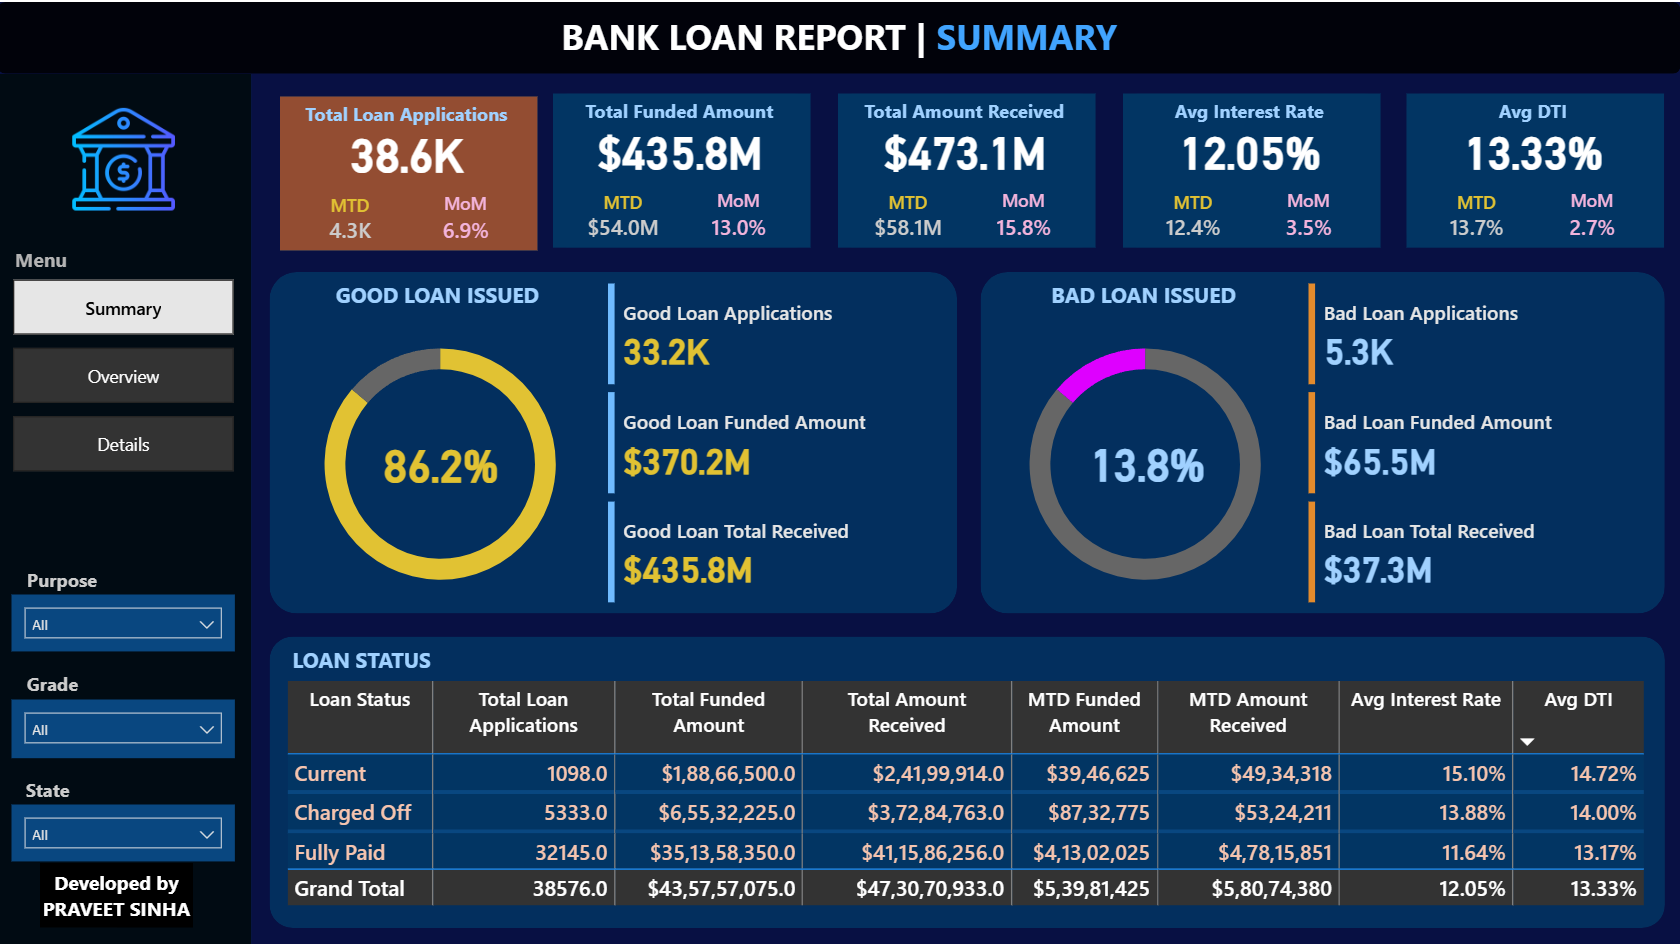

The dashboard page shown, as its layout file describes it:
{"tool":"powerbi","page":{"name":"Summary","canvas":[1280,720],"ordinal":0},"visuals":[{"type":"shape","box":[0,0,1280.5,54.6],"z":0},{"type":"group","id":"g1","title":"Group 1","box":[419.5,69.4,199.4,120.6],"z":0,"group":"g7"},{"type":"group","id":"g2","title":"Group 1","box":[636,69.4,199.4,120.6],"z":0,"group":"g8"},{"type":"group","id":"g3","title":"Group 1","box":[852.6,69.4,199.4,120.6],"z":0,"group":"g9"},{"type":"group","id":"g4","title":"Group 1","box":[1069.1,69.4,199.4,120.6],"z":0,"group":"g10"},{"type":"group","id":"g5","title":"Group 1","box":[211.2,71.7,199.4,120.6],"z":0,"group":"g11"},{"type":"textbox","box":[420,67.3,199.3,30.8],"z":1000,"group":"g7"},{"type":"textbox","box":[636.5,67.3,199.3,30.8],"z":1000,"group":"g8"},{"type":"textbox","box":[853.1,67.3,199.3,30.8],"z":1000,"group":"g9"},{"type":"textbox","box":[1069.6,67.3,199.3,30.8],"z":1000,"group":"g10"},{"type":"textbox","box":[211.7,69.6,199.3,30.8],"z":1000,"group":"g11"},{"type":"shape","box":[206.5,205.3,523.3,259.9],"z":1000},{"type":"textbox","box":[229.2,206.5,210.1,39.2],"z":1000,"group":"g6"},{"type":"textbox","box":[9.6,424.9,79.3,30.1],"z":1000,"group":"g20"},{"type":"textbox","box":[219.5,483.9,210.1,35.5],"z":1000,"group":"g19"},{"type":"textbox","box":[10.3,503.4,62.5,32.4],"z":1000,"group":"g21"},{"type":"textbox","box":[2.1,584.6,71.2,29.7],"z":1000,"group":"g22"},{"type":"shape","box":[747.6,205.3,521,259.9],"z":2000},{"type":"shape","box":[0,54.6,192.9,665.8],"z":3000},{"type":"shape","box":[422.9,69.4,195.9,117.2],"z":3000,"group":"g1"},{"type":"shape","box":[639.4,69.4,195.9,117.2],"z":3000,"group":"g2"},{"type":"shape","box":[856,69.4,195.9,117.2],"z":3000,"group":"g3"},{"type":"shape","box":[1072.5,69.4,195.9,117.2],"z":3000,"group":"g4"},{"type":"shape","box":[214.6,71.7,195.9,117.2],"z":3000,"group":"g5"},{"type":"group","id":"g6","title":"Group 2","box":[229.2,206.5,210.1,39.2],"z":4000},{"type":"textbox","box":[760.7,206.5,223.1,32],"z":5000},{"type":"shape","box":[0,54.9,192.7,665.1],"z":6000},{"type":"textbox","box":[403,2.1,474.5,45.6],"z":7000},{"type":"group","id":"g7","title":"Group 2","box":[419.5,67.3,199.8,122.6],"z":7000,"group":"g13"},{"type":"group","id":"g8","title":"Group 2","box":[636,67.3,199.8,122.6],"z":7000,"group":"g14"},{"type":"group","id":"g9","title":"Group 2","box":[852.6,67.3,199.8,122.6],"z":7000,"group":"g15"},{"type":"group","id":"g10","title":"Group 2","box":[1069.1,67.3,199.8,122.6],"z":7000,"group":"g16"},{"type":"group","id":"g11","title":"Group 2","box":[211.2,69.6,199.8,122.6],"z":7000,"group":"g12"},{"type":"card","fields":{"Values":["financial_loan.Total Loan Amount"]},"box":[419.5,88.3,199.3,45.5],"z":8000,"group":"g1"},{"type":"card","fields":{"Values":["financial_loan.Total Amount Collection"]},"box":[636,88.3,199.3,45.5],"z":8000,"group":"g2"},{"type":"card","fields":{"Values":["financial_loan.Avg Interest Rate"]},"box":[852.6,88.3,199.3,45.5],"z":8000,"group":"g3"},{"type":"card","fields":{"Values":["financial_loan.Avg DTI"]},"box":[1069.1,88.3,199.3,45.5],"z":8000,"group":"g4"},{"type":"card","fields":{"Values":["financial_loan.Total Loan Applications"]},"box":[211.2,90.6,199.3,45.5],"z":8000,"group":"g5"},{"type":"card","title":"MoM","fields":{"Values":["financial_loan.YOY Loan Amount"]},"box":[520,141.9,88.1,48.7],"z":8000,"group":"g13"},{"type":"card","title":"MoM","fields":{"Values":["financial_loan.YOY Loan Collection"]},"box":[736.5,141.9,88.1,48.7],"z":8000,"group":"g14"},{"type":"card","title":"MoM","fields":{"Values":["financial_loan.YOY Int Rate"]},"box":[953.1,141.9,88.1,48.7],"z":8000,"group":"g15"},{"type":"card","title":"MoM","fields":{"Values":["financial_loan.YOY DTI"]},"box":[1169.6,141.9,88.1,48.7],"z":8000,"group":"g16"},{"type":"card","title":"MoM","fields":{"Values":["financial_loan.YOY Loan Applications"]},"box":[311.7,144.2,88.1,48.7],"z":8000,"group":"g12"},{"type":"textbox","box":[69.7,8.1,158,40.7],"z":9000},{"type":"card","title":"MTD","fields":{"Values":["financial_loan.MTD Loan Amount"]},"box":[426.2,142,99.3,48],"z":9000,"group":"g1"},{"type":"card","title":"MTD","fields":{"Values":["financial_loan.MTD Loan Collection"]},"box":[642.7,142,99.3,48],"z":9000,"group":"g2"},{"type":"card","title":"MTD","fields":{"Values":["financial_loan.MTD Avg Int Rate"]},"box":[859.3,142,99.3,48],"z":9000,"group":"g3"},{"type":"card","title":"MTD","fields":{"Values":["financial_loan.MTD Avg DTI"]},"box":[1075.8,142,99.3,48],"z":9000,"group":"g4"},{"type":"card","title":"MTD","fields":{"Values":["financial_loan.MTD Applications"]},"box":[217.9,144.3,99.3,48],"z":9000,"group":"g5"},{"type":"group","id":"g12","title":"Group 3","box":[211.2,69.6,199.8,123.3],"z":10000},{"type":"group","id":"g13","title":"Group 3","box":[419.5,67.3,199.9,123.3],"z":11000},{"type":"donutChart","fields":{"Y":["financial_loan.Total Loan Applications"],"Category":["financial_loan.Fully Paid Status"]},"box":[211.2,236.2,250,230],"z":11000,"group":"g17"},{"type":"donutChart","fields":{"Y":["financial_loan.Total Loan Applications"],"Category":["financial_loan.Fully Paid Status"]},"box":[747.6,236.2,250,230],"z":11000,"group":"g18"},{"type":"group","id":"g14","title":"Group 3","box":[636,67.3,199.9,123.3],"z":12000},{"type":"card","fields":{"Values":["financial_loan.Good Loan Issued"]},"box":[279.6,318,114,63.2],"z":12000,"group":"g17"},{"type":"card","fields":{"Values":["financial_loan.Bad Loan"]},"box":[816.4,320.5,116.3,57],"z":12000,"group":"g18"},{"type":"group","id":"g15","title":"Group 3","box":[852.6,67.3,199.9,123.3],"z":13000},{"type":"group","id":"g16","title":"Group 3","box":[1069.1,67.3,199.9,123.3],"z":14000},{"type":"group","id":"g17","title":"Group 4","box":[211.2,236.2,250,230],"z":15000},{"type":"group","id":"g18","title":"Group 4","box":[747.6,236.2,250,230],"z":16000},{"type":"shape","box":[206.5,483,1062.1,221.9],"z":17000},{"type":"cardVisual","fields":{"Data":["financial_loan.Good Loan Applications","financial_loan.Good Loan Funded Amount","financial_loan.Good Loan Total Collection"]},"box":[459.3,208.9,265.8,255.1],"z":18000},{"type":"cardVisual","fields":{"Data":["financial_loan.Bad Loan Applications","financial_loan.Bad Loan Funded Amount","financial_loan.Bad Loan Total Collection"]},"box":[992.1,208.9,265.8,255.1],"z":19000},{"type":"tableEx","title":"LOAN ISSUED BY STATUS","fields":{"Values":["financial_loan.loan_status","financial_loan.Total Loan Applications","financial_loan.Total Loan Amount","financial_loan.Total Amount Collection","financial_loan.MTD Loan Amount","financial_loan.MTD Loan Collection","financial_loan.Avg Interest Rate","financial_loan.Avg DTI"]},"box":[214.4,511.8,1046.3,192.7],"z":20000},{"type":"group","id":"g19","title":"Group 2","box":[219.5,483.9,210.1,35.5],"z":21000},{"type":"image","box":[26.8,69.2,138.4,99.3],"z":22000},{"type":"textbox","box":[8.3,180.3,157.5,34.2],"z":23000},{"type":"pageNavigator","box":[11.4,211.4,168.6,147.3],"z":24000},{"type":"slicer","fields":{"Values":["financial_loan.Good v Bad Loan"]},"box":[10.4,450.9,169.7,43],"z":25000},{"type":"slicer","fields":{"Values":["financial_loan.grade"]},"box":[10.7,530.6,169.9,44.5],"z":26000},{"type":"slicer","fields":{"Values":["financial_loan.address_state"]},"box":[10.4,611.2,169.9,43.5],"z":27000},{"type":"group","id":"g20","title":"Group 2","box":[9.6,424.9,79.3,30.1],"z":28000},{"type":"group","id":"g21","title":"Group 2","box":[10.3,503.4,62.5,32.4],"z":29000},{"type":"group","id":"g22","title":"Group 2","box":[2.1,584.6,71.2,29.7],"z":30000},{"type":"shape","box":[32,655.3,116.5,49.1],"z":30001}]}

Visuals, with their boxes in screenshot pixels (x1, y1, x2, y2), scaled from the page's 1280x720 canvas onto the 1680x944 screenshot:
shape: <bbox>0, 0, 1679, 72</bbox>
"Group 1" group: <bbox>551, 91, 812, 249</bbox>
"Group 1" group: <bbox>835, 91, 1096, 249</bbox>
"Group 1" group: <bbox>1119, 91, 1381, 249</bbox>
"Group 1" group: <bbox>1403, 91, 1665, 249</bbox>
"Group 1" group: <bbox>277, 94, 539, 252</bbox>
textbox: <bbox>551, 88, 813, 129</bbox>
textbox: <bbox>835, 88, 1097, 129</bbox>
textbox: <bbox>1120, 88, 1381, 129</bbox>
textbox: <bbox>1404, 88, 1665, 129</bbox>
textbox: <bbox>278, 91, 539, 132</bbox>
shape: <bbox>271, 269, 958, 610</bbox>
textbox: <bbox>301, 271, 577, 322</bbox>
textbox: <bbox>13, 557, 117, 597</bbox>
textbox: <bbox>288, 634, 564, 681</bbox>
textbox: <bbox>14, 660, 96, 702</bbox>
textbox: <bbox>3, 766, 96, 805</bbox>
shape: <bbox>981, 269, 1665, 610</bbox>
shape: <bbox>0, 72, 253, 943</bbox>
shape: <bbox>555, 91, 812, 245</bbox>
shape: <bbox>839, 91, 1096, 245</bbox>
shape: <bbox>1124, 91, 1381, 245</bbox>
shape: <bbox>1408, 91, 1665, 245</bbox>
shape: <bbox>282, 94, 539, 248</bbox>
"Group 2" group: <bbox>301, 271, 577, 322</bbox>
textbox: <bbox>998, 271, 1291, 313</bbox>
shape: <bbox>0, 72, 253, 943</bbox>
textbox: <bbox>529, 3, 1152, 63</bbox>
"Group 2" group: <bbox>551, 88, 813, 249</bbox>
"Group 2" group: <bbox>835, 88, 1097, 249</bbox>
"Group 2" group: <bbox>1119, 88, 1381, 249</bbox>
"Group 2" group: <bbox>1403, 88, 1665, 249</bbox>
"Group 2" group: <bbox>277, 91, 539, 252</bbox>
card - financial_loan.Total Loan Amount: <bbox>551, 116, 812, 175</bbox>
card - financial_loan.Total Amount Collection: <bbox>835, 116, 1096, 175</bbox>
card - financial_loan.Avg Interest Rate: <bbox>1119, 116, 1381, 175</bbox>
card - financial_loan.Avg DTI: <bbox>1403, 116, 1665, 175</bbox>
card - financial_loan.Total Loan Applications: <bbox>277, 119, 539, 178</bbox>
"MoM" card: <bbox>682, 186, 798, 250</bbox>
"MoM" card: <bbox>967, 186, 1082, 250</bbox>
"MoM" card: <bbox>1251, 186, 1367, 250</bbox>
"MoM" card: <bbox>1535, 186, 1651, 250</bbox>
"MoM" card: <bbox>409, 189, 525, 253</bbox>
textbox: <bbox>91, 11, 299, 64</bbox>
"MTD" card: <bbox>559, 186, 690, 249</bbox>
"MTD" card: <bbox>844, 186, 974, 249</bbox>
"MTD" card: <bbox>1128, 186, 1258, 249</bbox>
"MTD" card: <bbox>1412, 186, 1542, 249</bbox>
"MTD" card: <bbox>286, 189, 416, 252</bbox>
"Group 3" group: <bbox>277, 91, 539, 253</bbox>
"Group 3" group: <bbox>551, 88, 813, 250</bbox>
donutChart - financial_loan.Total Loan Applications x financial_loan.Fully Paid Status: <bbox>277, 310, 605, 611</bbox>
donutChart - financial_loan.Total Loan Applications x financial_loan.Fully Paid Status: <bbox>981, 310, 1309, 611</bbox>
"Group 3" group: <bbox>835, 88, 1097, 250</bbox>
card - financial_loan.Good Loan Issued: <bbox>367, 417, 517, 500</bbox>
card - financial_loan.Bad Loan: <bbox>1072, 420, 1224, 495</bbox>
"Group 3" group: <bbox>1119, 88, 1381, 250</bbox>
"Group 3" group: <bbox>1403, 88, 1666, 250</bbox>
"Group 4" group: <bbox>277, 310, 605, 611</bbox>
"Group 4" group: <bbox>981, 310, 1309, 611</bbox>
shape: <bbox>271, 633, 1665, 924</bbox>
cardVisual - financial_loan.Good Loan Applications x financial_loan.Good Loan Funded Amount: <bbox>603, 274, 952, 608</bbox>
cardVisual - financial_loan.Bad Loan Applications x financial_loan.Bad Loan Funded Amount: <bbox>1302, 274, 1651, 608</bbox>
"LOAN ISSUED BY STATUS" tableEx: <bbox>281, 671, 1655, 924</bbox>
"Group 2" group: <bbox>288, 634, 564, 681</bbox>
image: <bbox>35, 91, 217, 221</bbox>
textbox: <bbox>11, 236, 218, 281</bbox>
pageNavigator: <bbox>15, 277, 236, 470</bbox>
slicer - financial_loan.Good v Bad Loan: <bbox>14, 591, 236, 648</bbox>
slicer - financial_loan.grade: <bbox>14, 696, 237, 754</bbox>
slicer - financial_loan.address_state: <bbox>14, 801, 237, 858</bbox>
"Group 2" group: <bbox>13, 557, 117, 597</bbox>
"Group 2" group: <bbox>14, 660, 96, 702</bbox>
"Group 2" group: <bbox>3, 766, 96, 805</bbox>
shape: <bbox>42, 859, 195, 924</bbox>
